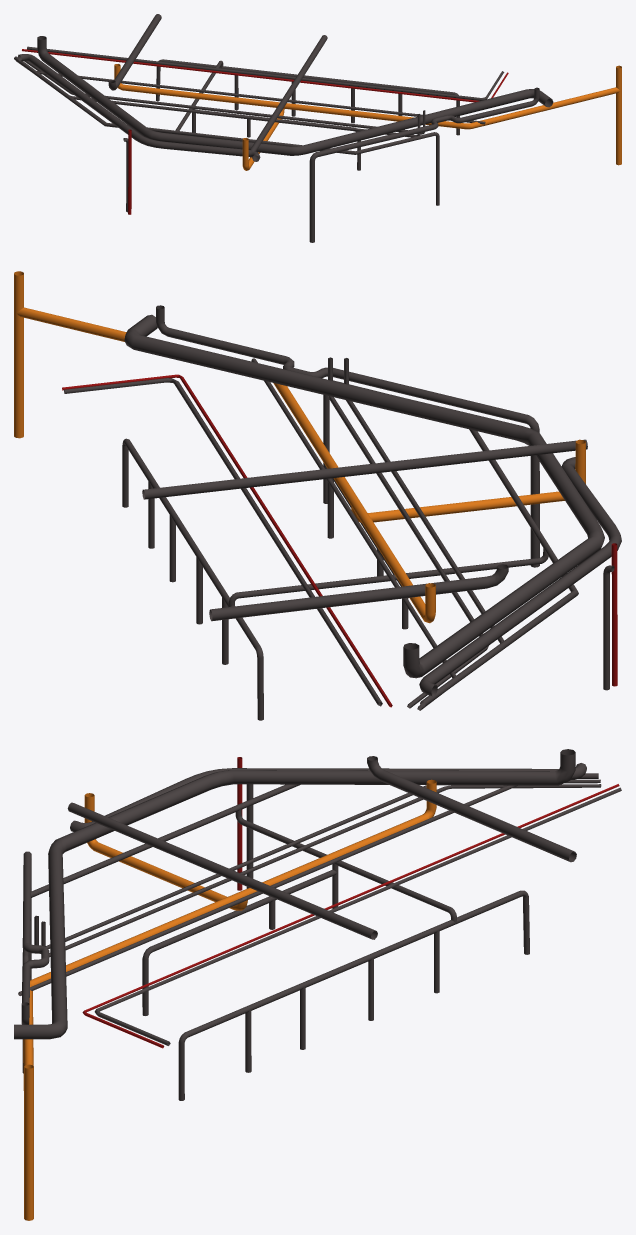
The model's file is SM_H_Building_Tide_Laundryroom_04_ATLAS.fbx.
3 views of the same model, one above another, from view 1: azimuth 30°, elevation 25°; view 2: azimuth 150°, elevation 25°; view 3: azimuth 270°, elevation 25° (orthographic). The views are drawn at different scales.
Visible parts, largest first — view 1: SM_H_Building_Tide_Laundryroom_04_ATLAS; view 2: SM_H_Building_Tide_Laundryroom_04_ATLAS; view 3: SM_H_Building_Tide_Laundryroom_04_ATLAS.
Part boxes in pixels (left/top/right/bottom): SM_H_Building_Tide_Laundryroom_04_ATLAS: left=14, top=14, right=621, bottom=242; SM_H_Building_Tide_Laundryroom_04_ATLAS: left=14, top=271, right=621, bottom=720; SM_H_Building_Tide_Laundryroom_04_ATLAS: left=14, top=749, right=621, bottom=1220.
Size of the model in its own units: 4056 by 3185 by 925.
